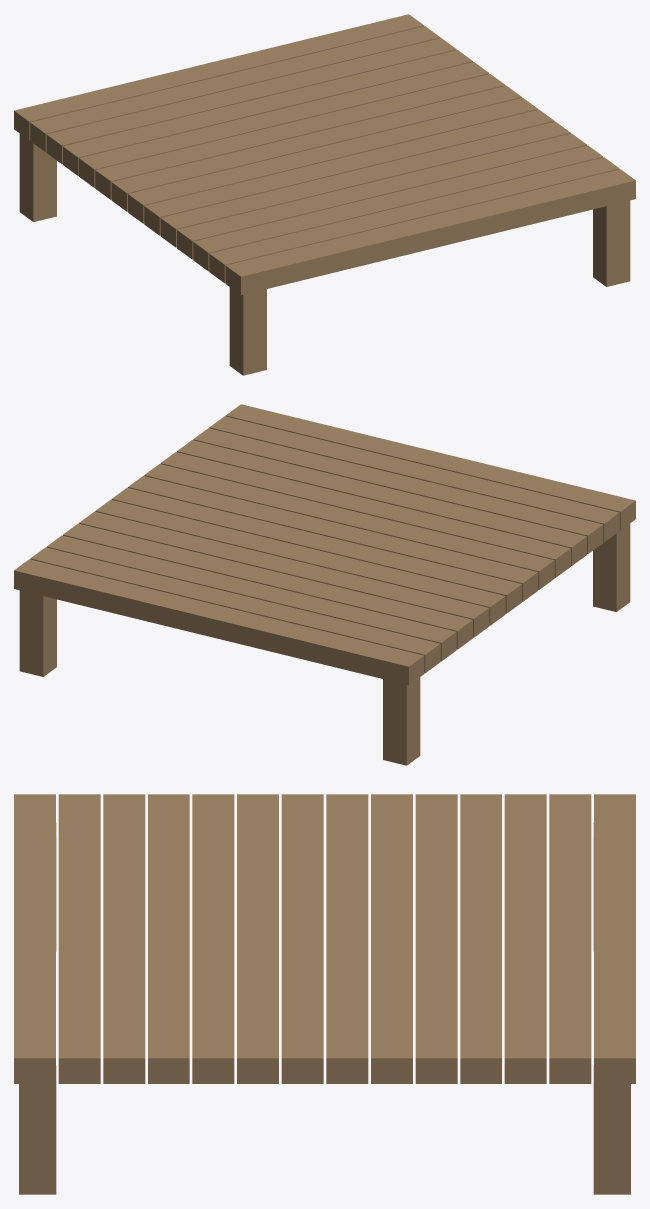
Rendered from zoo-and-safari-park-builder-boardwalk-95fee2c9__21487.glb.
3 renders of one model, top to bottom at view 1: azimuth 30°, elevation 25°; view 2: azimuth 150°, elevation 25°; view 3: azimuth 270°, elevation 25°, orthographic. The views are drawn at different scales.
Parts seen in each view (by area): view 1: boardwalk; view 2: boardwalk; view 3: boardwalk.
Part boxes in pixels (x1,y1,x2,y2): boardwalk: (14, 14, 635, 375); boardwalk: (14, 404, 635, 765); boardwalk: (14, 794, 635, 1194).
Bounding box in the file's own units: 2 × 0.49 × 1.99.
